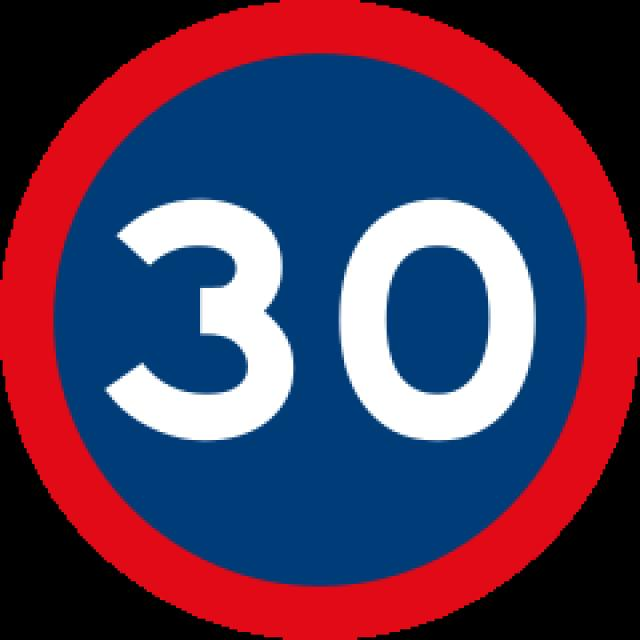Speed Limit -30-: (98, 191, 542, 451)
